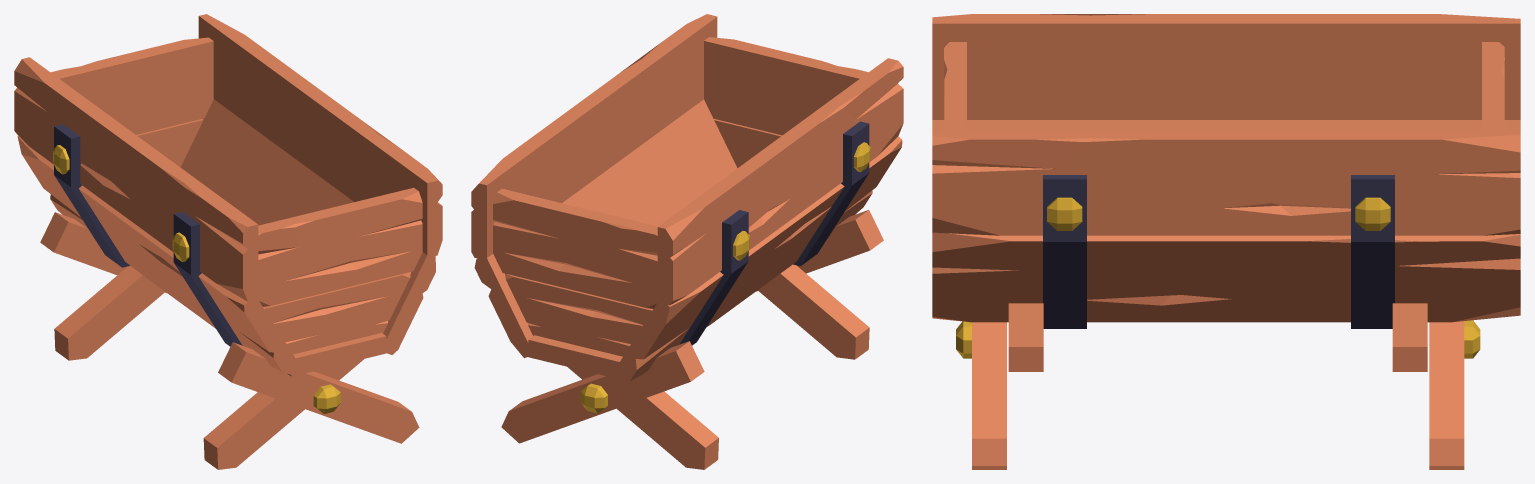
File: drinktrough.fbx
3 renders of one model, left to right at view 1: azimuth 30°, elevation 25°; view 2: azimuth 150°, elevation 25°; view 3: azimuth 270°, elevation 25°, orthographic. The views are drawn at different scales.
Visible parts, largest first — view 1: Cube.147, Cube.158; view 2: Cube.147, Cube.158; view 3: Cube.147, Cube.158.
Boxes of the visible parts, x1,y1,x2,y2 form: Cube.147: [14, 14, 442, 376]; Cube.158: [40, 124, 419, 469]; Cube.147: [471, 14, 903, 381]; Cube.158: [501, 121, 883, 469]; Cube.147: [932, 14, 1520, 322]; Cube.158: [956, 175, 1480, 469].
Size of the model in its own units: 477 by 542 by 833.
